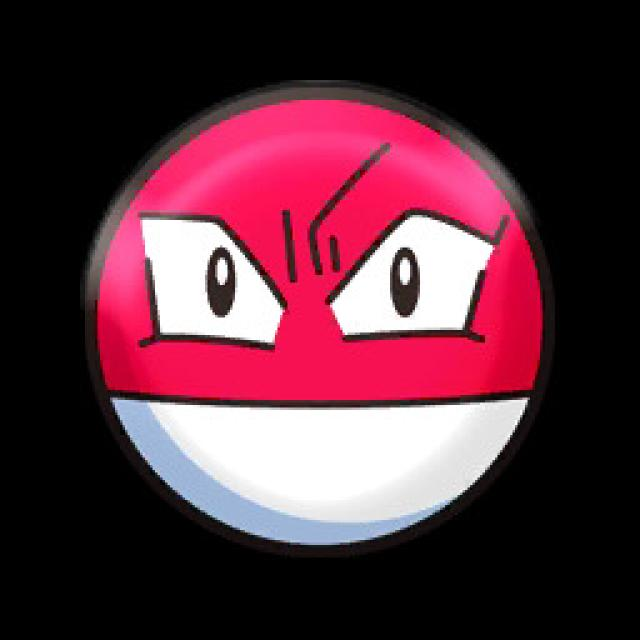Voltorb: (77, 83, 553, 550)
